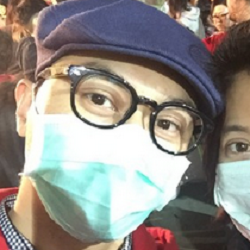mask: (13, 109, 185, 241)
